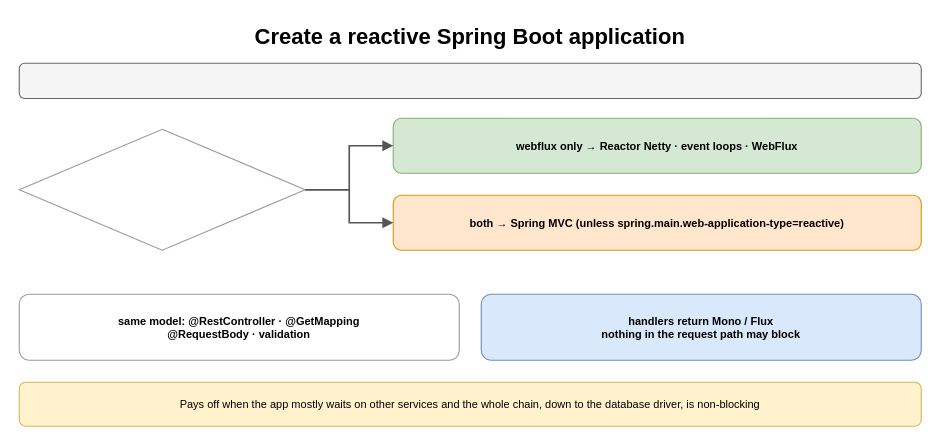
Some shapes in this 941 by 446 pixel diagram are drawn without their labels. Here are the shapes that lost their labels. From the top down, the box of each, then its label:
(18, 62, 921, 98): spring-boot-starter-webflux starts Reactor Netty with a few event-loop threads
(18, 128, 305, 250): which web starters are on the classpath?
